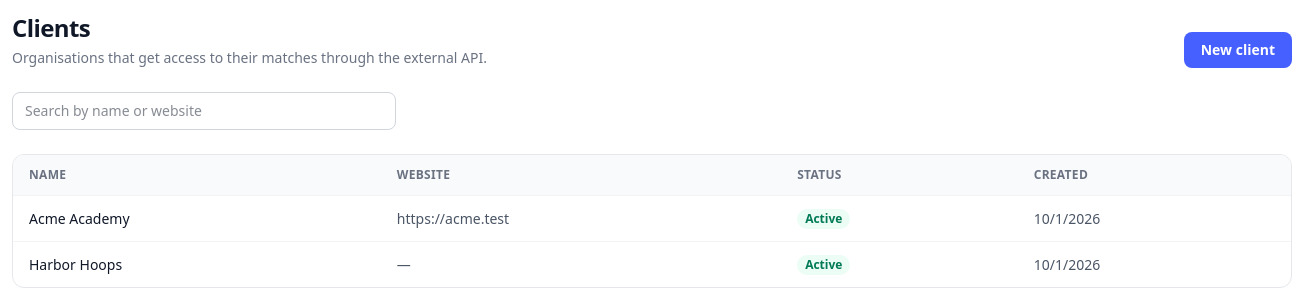
Test: Clients page › lists clients and filters them by name
The width and height of the screenshot is (1304, 305).
expect the button "Acme Academy" is shown: met, box [29,208,130,228]
expect the button "Harbor Hoops" is shown: met, box [29,254,122,274]
Type "harbor" into the search field named "Search clients". click: coordinates (204, 111)
box: [12,92,396,130]
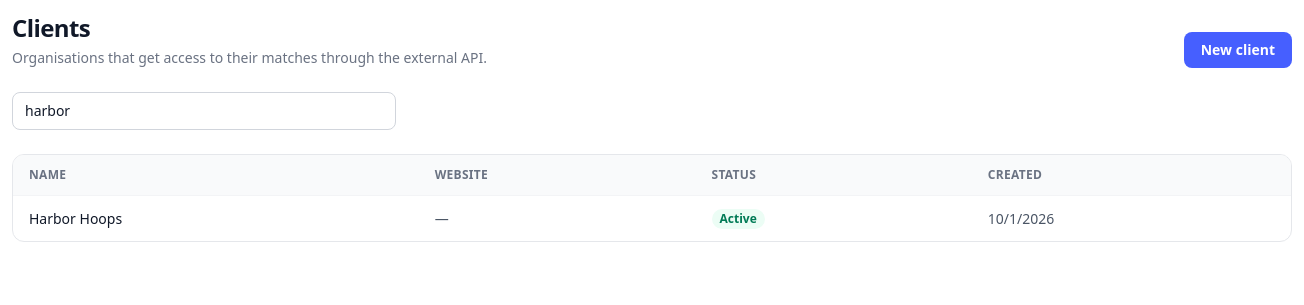
expect the button "Harbor Hoops" is shown: met, box [29,208,122,228]
expect the button "Acme Academy" is gone: met
